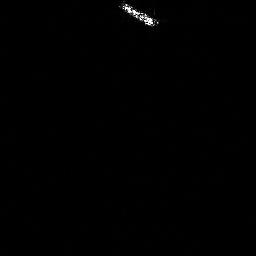ship: (122, 2, 159, 25)
